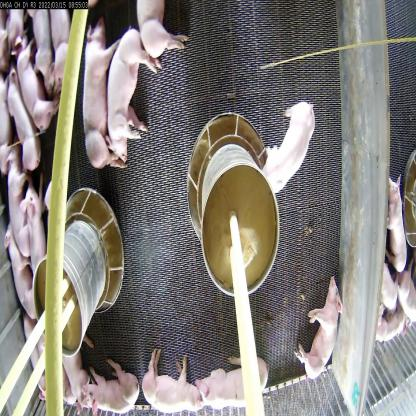Pig: (98, 36, 154, 160), (78, 25, 120, 182), (258, 98, 316, 202), (293, 273, 341, 376), (196, 352, 270, 415), (143, 348, 212, 415), (2, 140, 32, 279), (5, 72, 35, 176), (85, 372, 139, 416), (18, 42, 48, 121), (23, 186, 45, 267)
